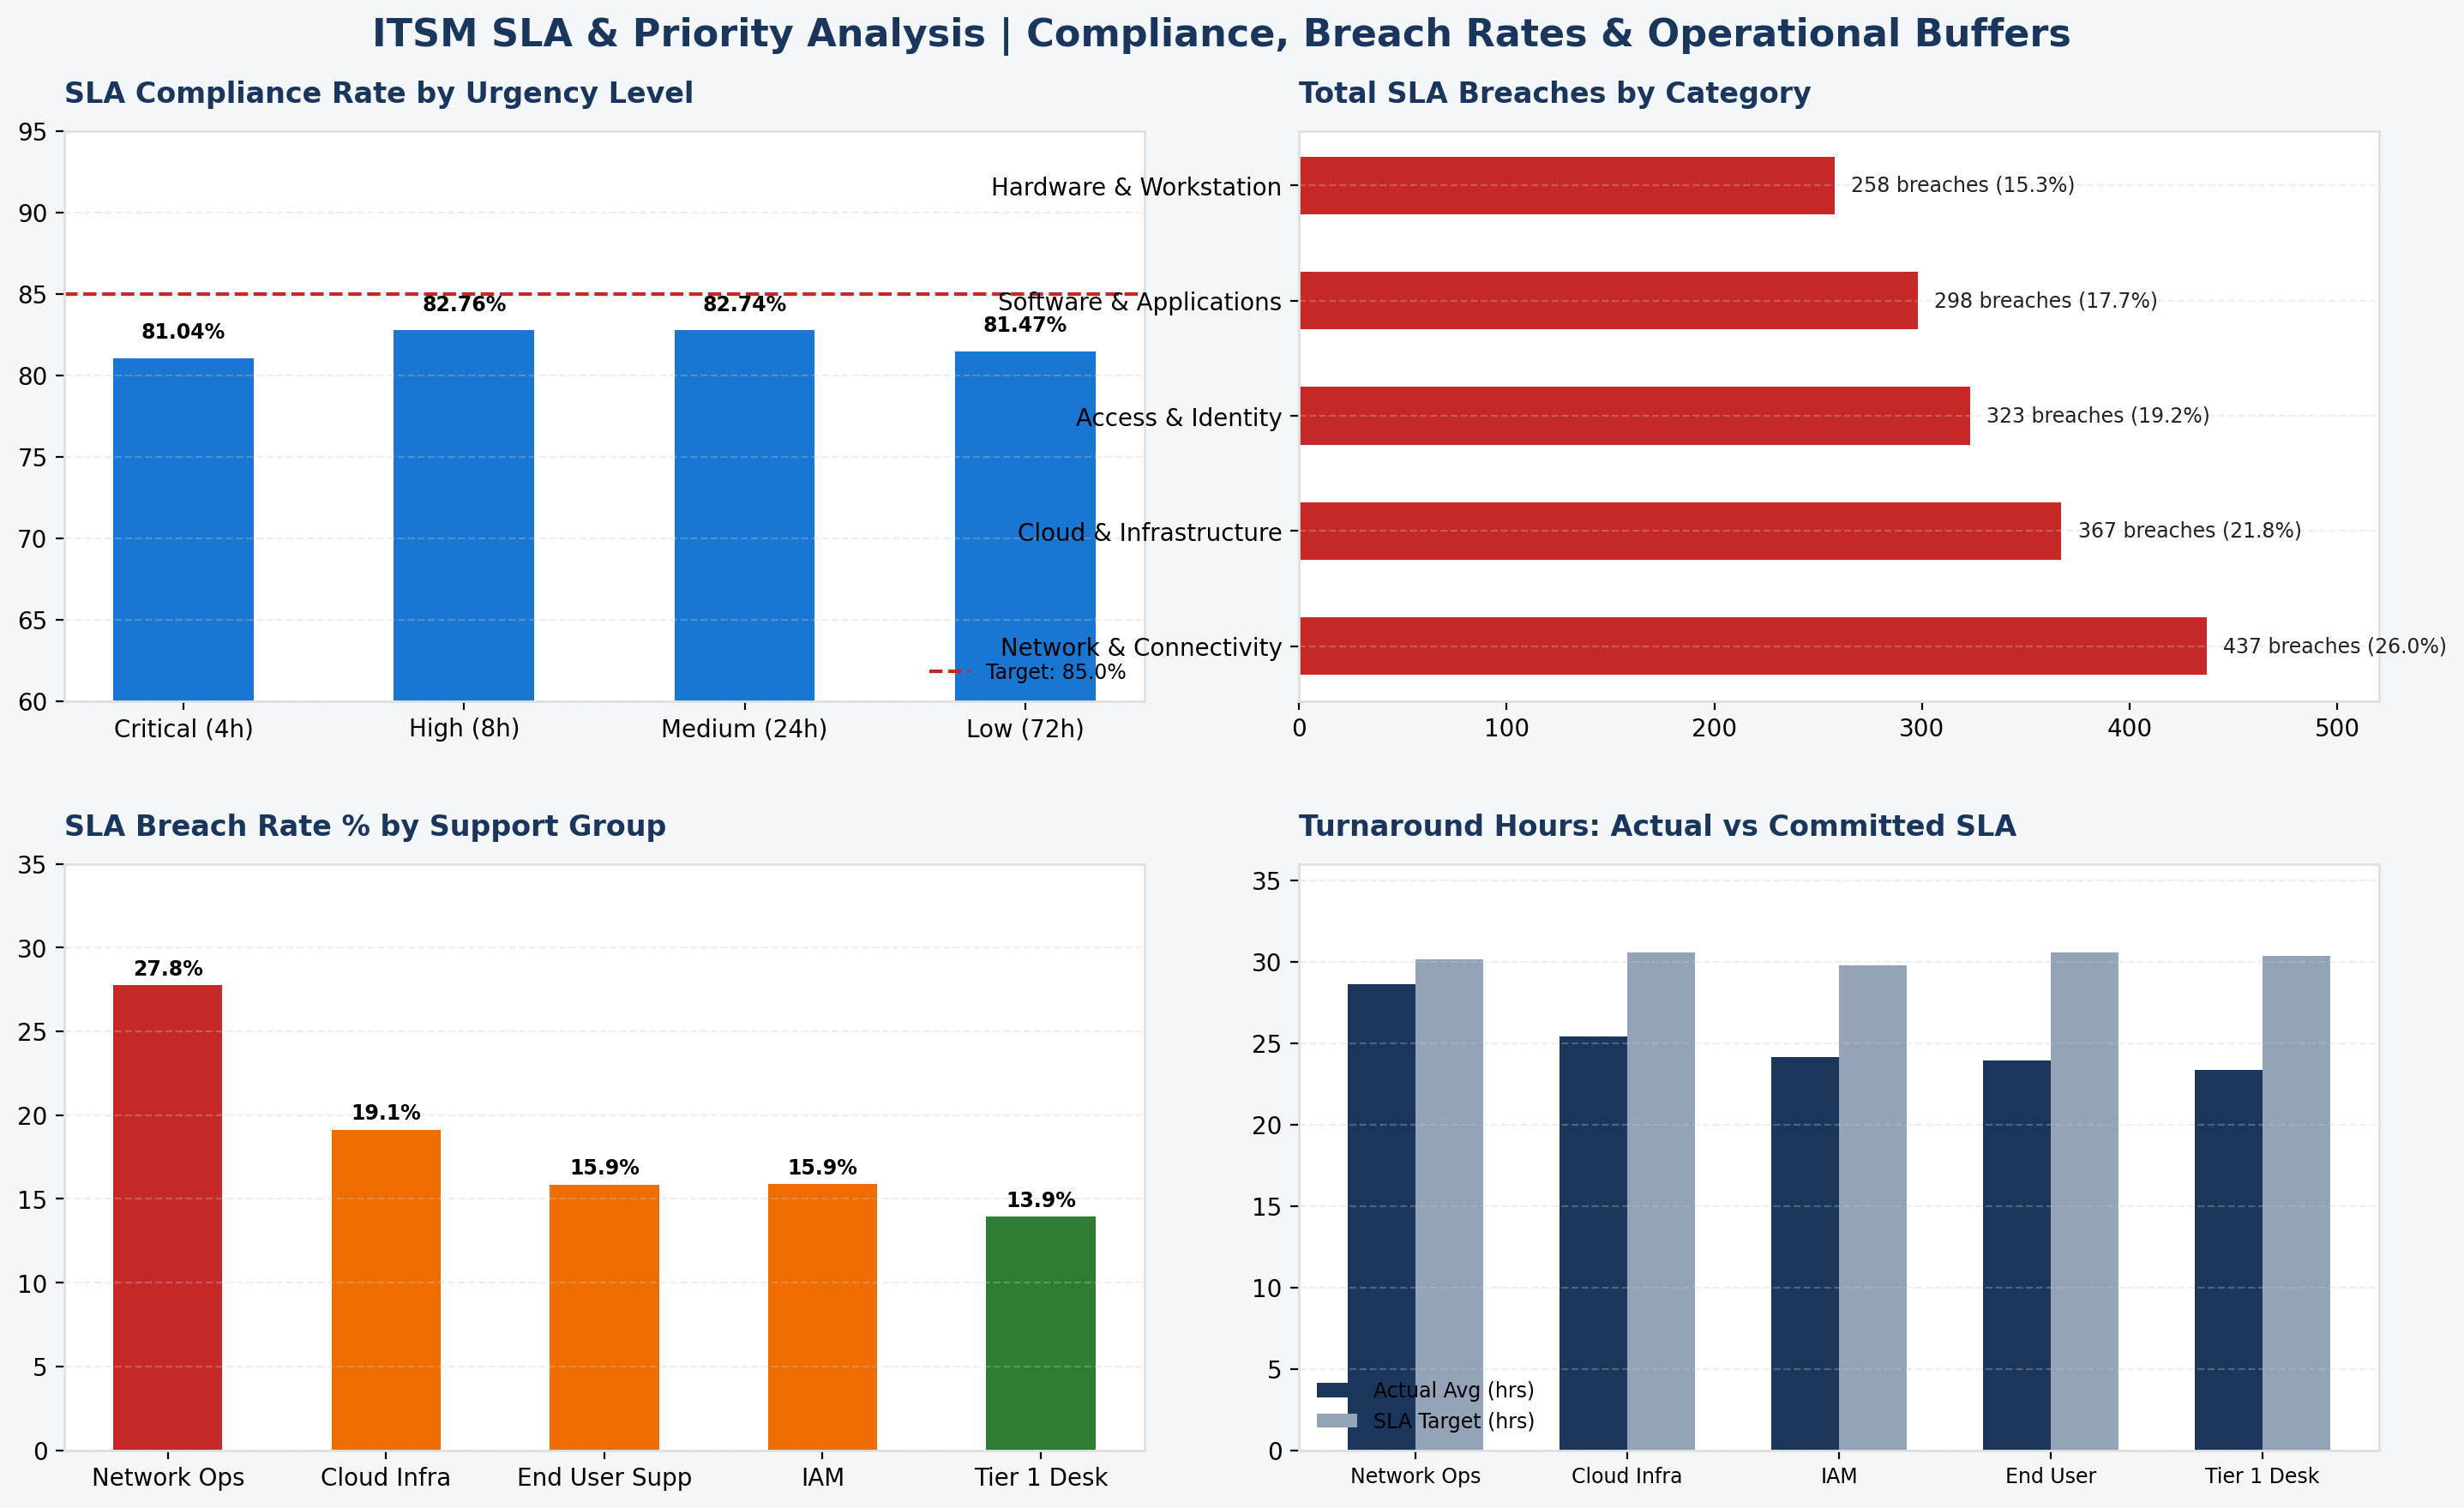

Layout of this report page (visuals, bound fields, positions):
{"tool":"tableau","page":{"name":"2_SLA_and_Priority_Analysis","canvas":[1300,850],"ordinal":1},"visuals":[{"type":"worksheet","title":"SLA_Compliance_by_Priority","mark":"Bar","box":[0,0,650,425]},{"type":"worksheet","title":"SLA_Breaches_by_Category","mark":"Bar","box":[650,0,650,425]},{"type":"worksheet","title":"SLA_Breach_Rate_by_Team","mark":"Bar","box":[0,425,650,425]},{"type":"worksheet","title":"Actual_vs_Target_Hours","mark":"Bar","box":[650,425,650,425]}]}

Visuals, with their boxes on the page's 1300x850 design canvas (x1, y1, x2, y2). These are canvas units, not pixel positions in the 2464x1508 screenshot, which may show the page scaled, cropped or inside an application window:
"SLA_Compliance_by_Priority" worksheet (Bar marks): locate(0, 0, 650, 425)
"SLA_Breaches_by_Category" worksheet (Bar marks): locate(650, 0, 1300, 425)
"SLA_Breach_Rate_by_Team" worksheet (Bar marks): locate(0, 425, 650, 850)
"Actual_vs_Target_Hours" worksheet (Bar marks): locate(650, 425, 1300, 850)
